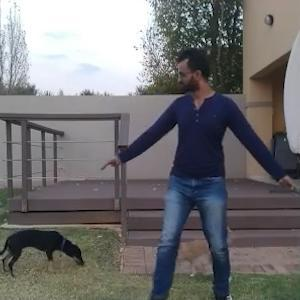land: (97, 37, 288, 299)
